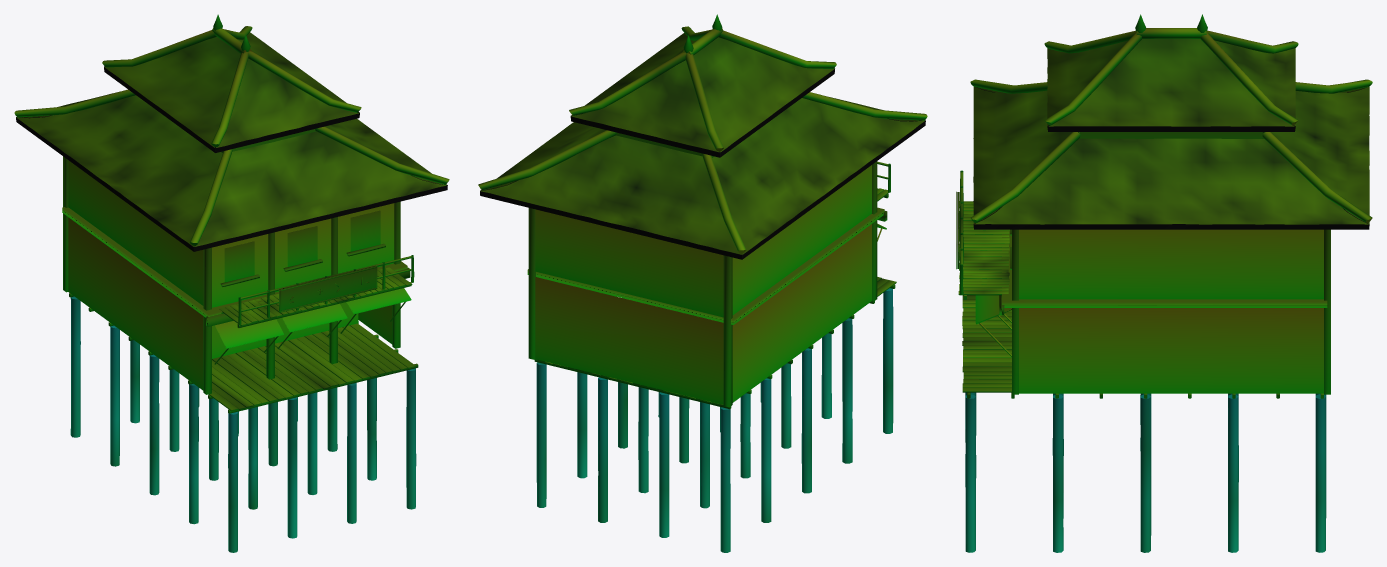
File: shophouse_b.glb
3 views of the same model, side by side, from view 1: azimuth 30°, elevation 25°; view 2: azimuth 150°, elevation 25°; view 3: azimuth 270°, elevation 25° (orthographic). The views are drawn at different scales.
Visible parts, largest first — view 1: shophouse_b; view 2: shophouse_b; view 3: shophouse_b.
Part boxes in pixels (<box>): shophouse_b: <box>14,14,449,552</box>; shophouse_b: <box>478,14,927,552</box>; shophouse_b: <box>956,14,1372,552</box>.
Size of what is drawn, in the model's own units: 9.61 by 15.54 by 12.01.
